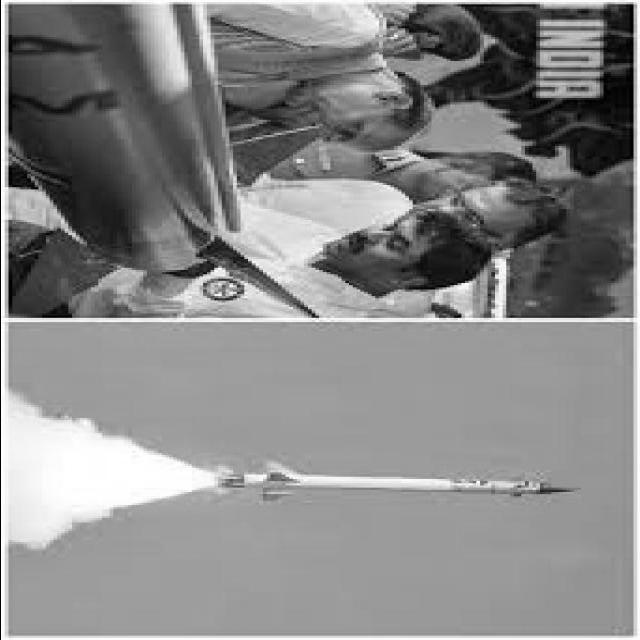Missile: (191, 464, 581, 501)
